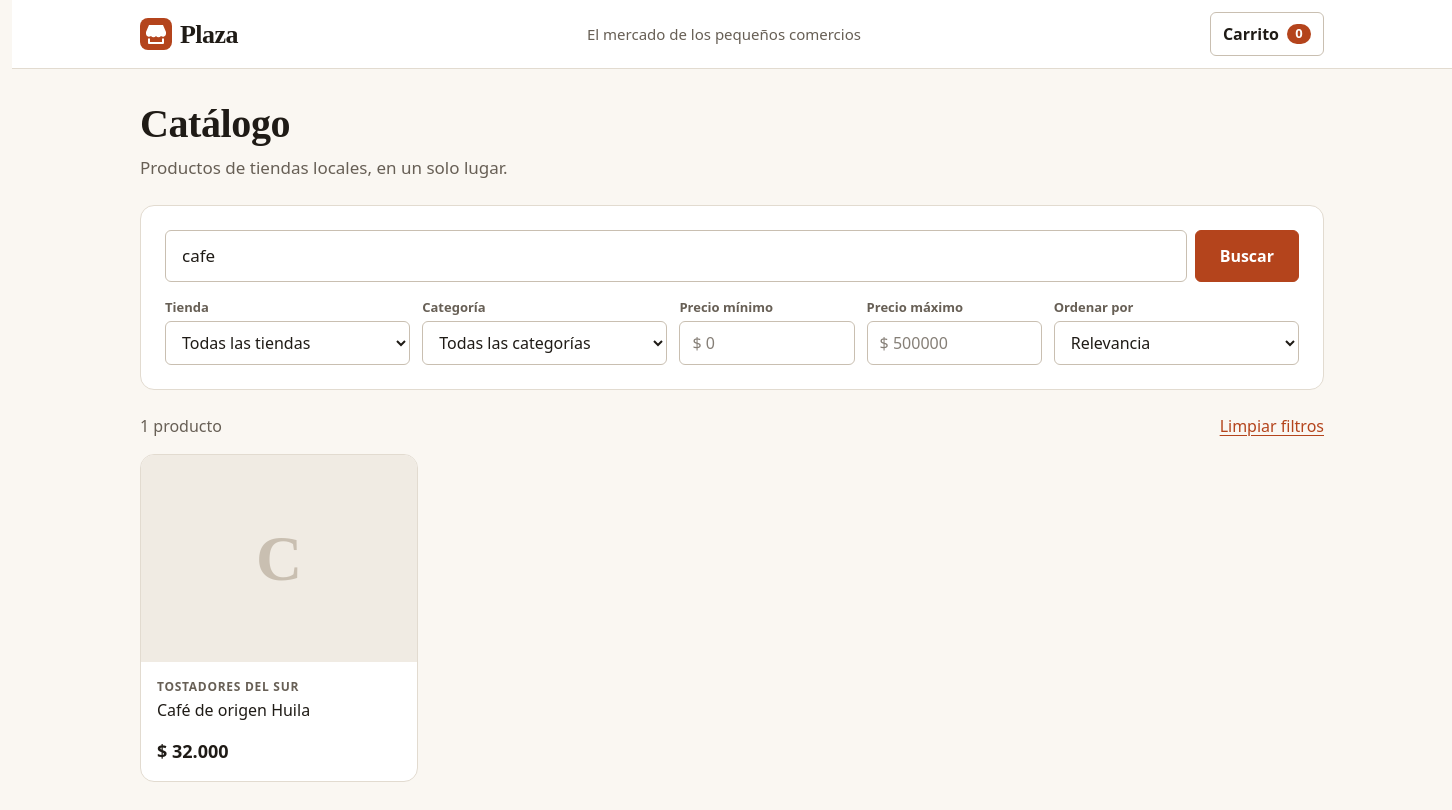
Test: CatalogPage › changing a filter resets the page to the first one
Expected: the heading "Café de origen Huila" is shown, [157,699,310,721]
Select "Tejidos Wayuu" in the dropdown labelled "Tienda" at (288, 343), box [165,321,410,365]
(page scrolled)
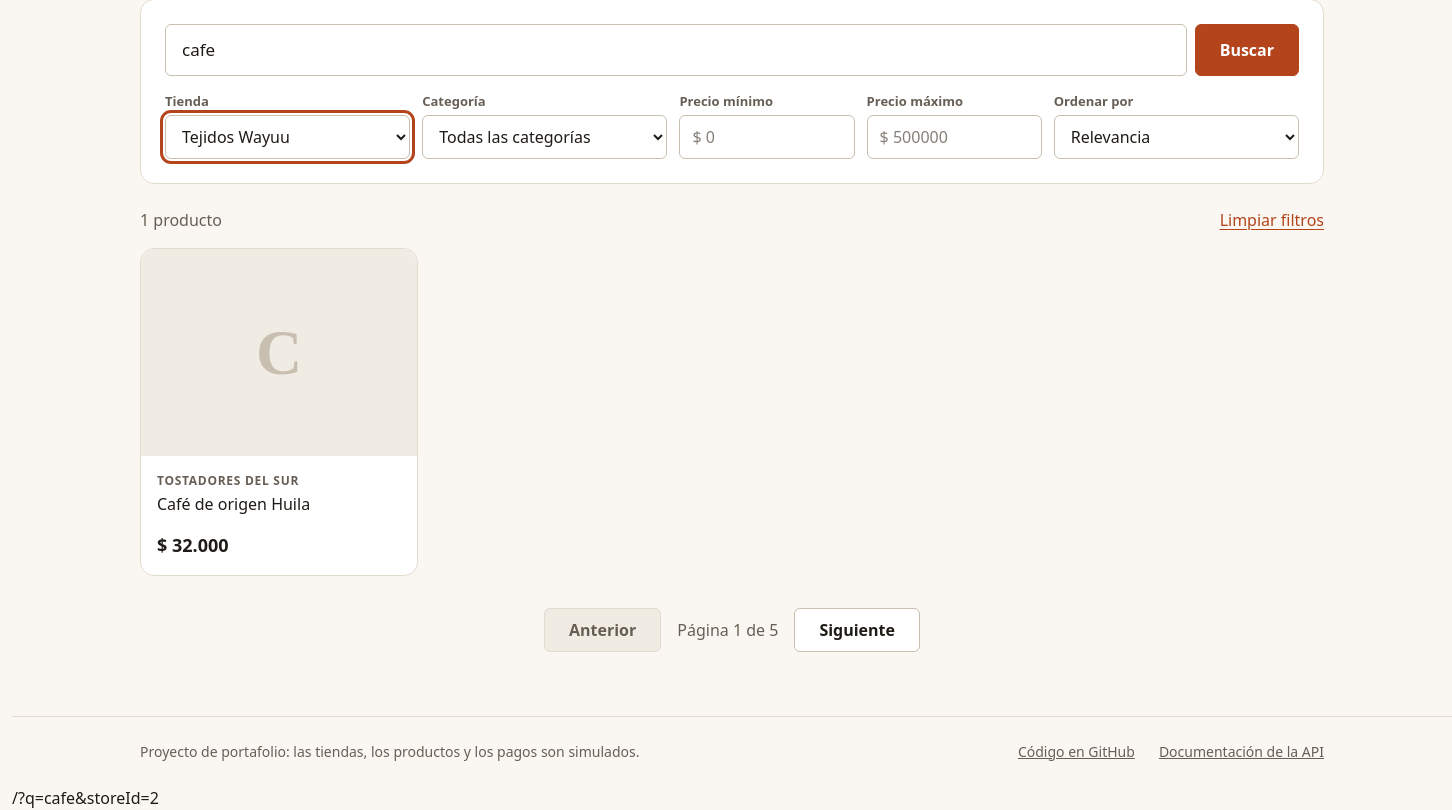
Result: the text with test id "url" reads "/?q=cafe&storeId=2" at [12,787,159,809]
